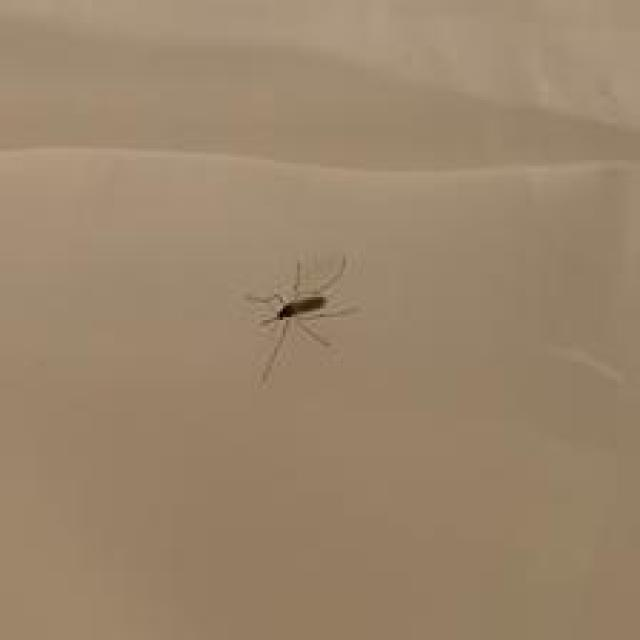Culex: (244, 251, 359, 386)
